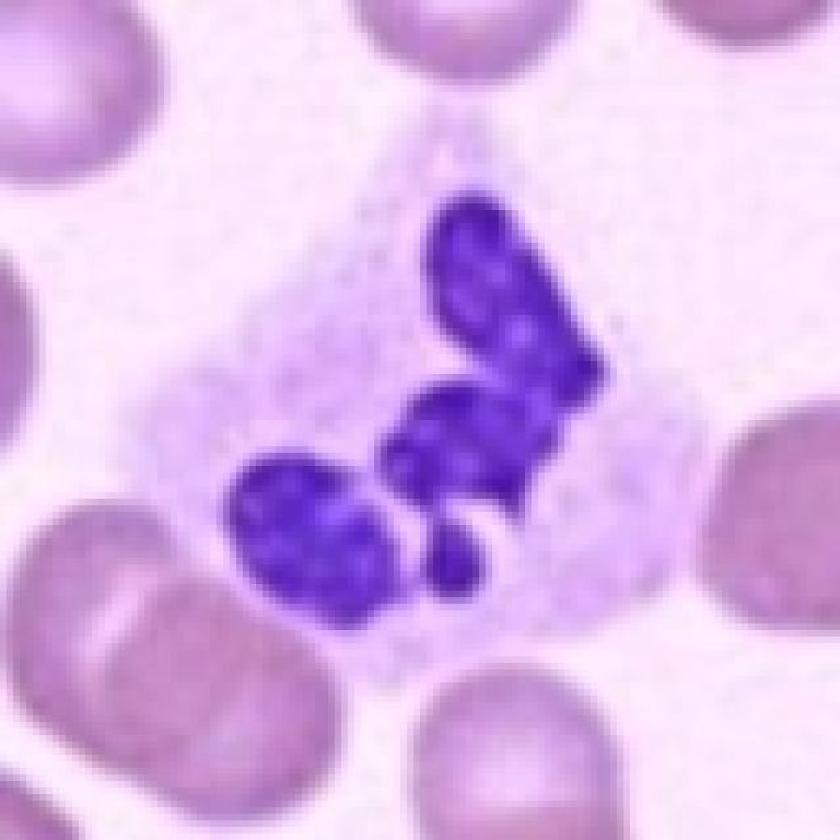neutrophil: (53, 119, 730, 707)
